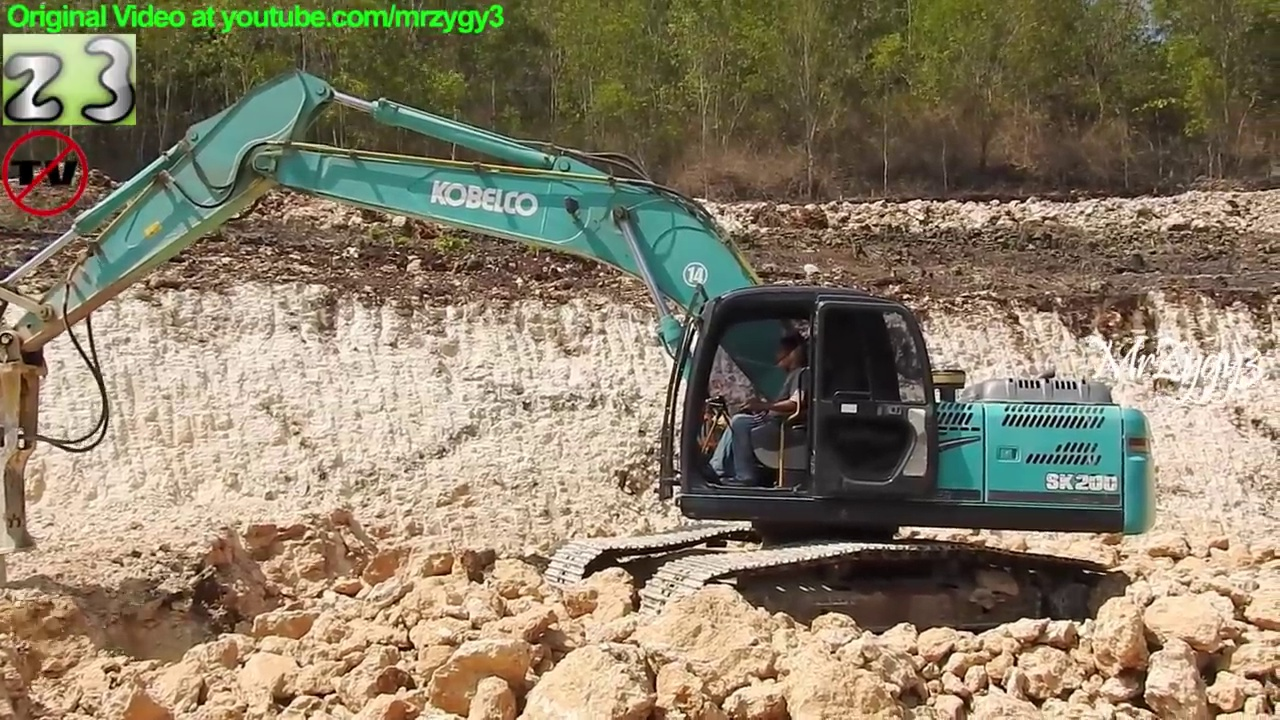excavator breaker: (1, 62, 1162, 644)
